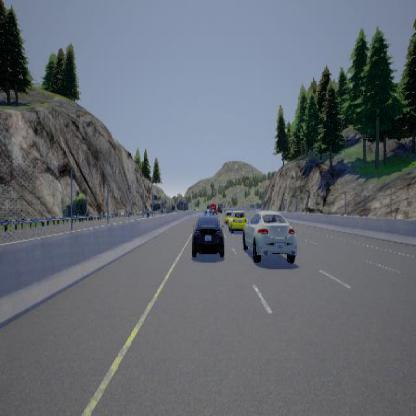vehicle: (242, 210, 296, 269), (191, 203, 224, 256), (224, 208, 247, 234)
